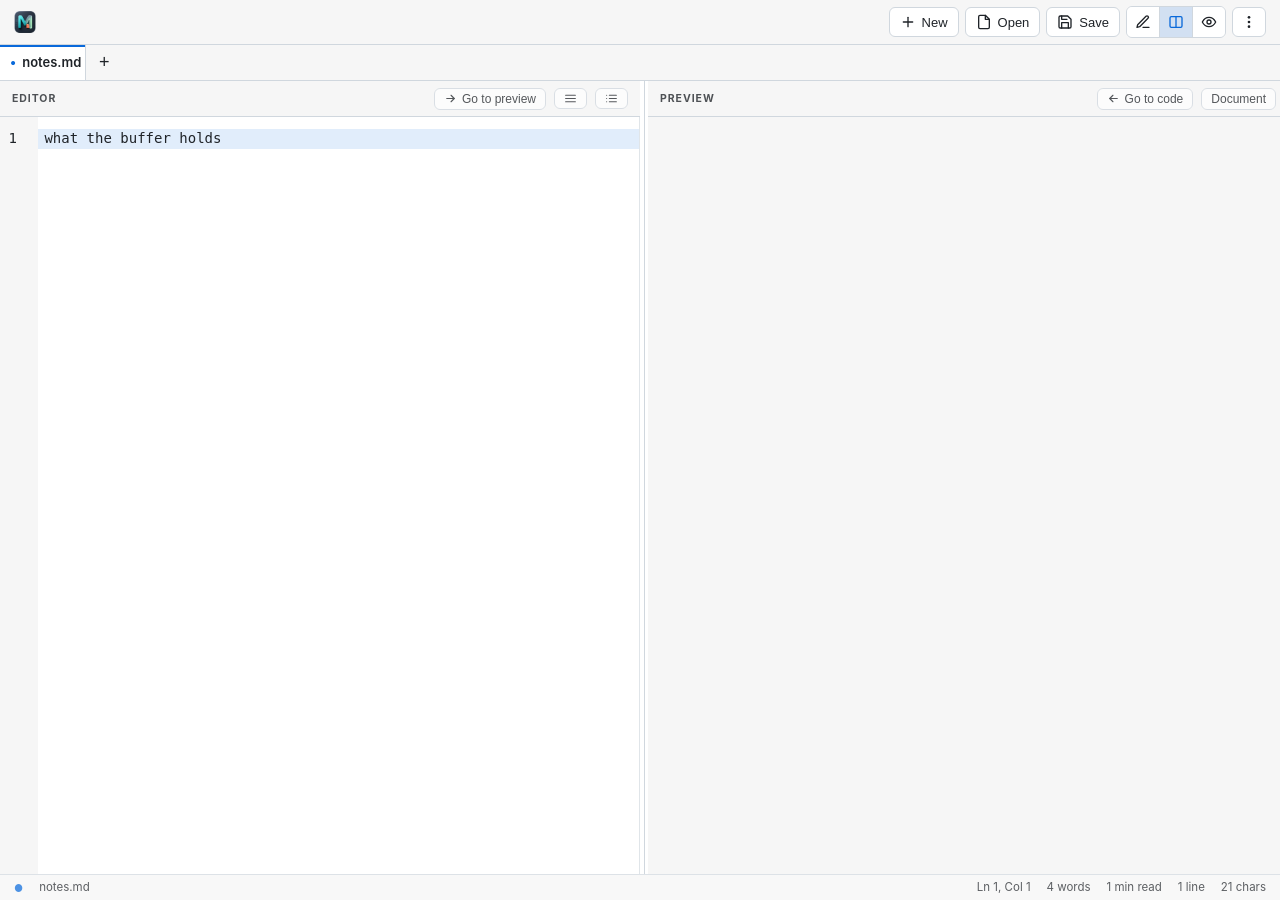
Test: reloading from disk › reloads once the answer is yes
What coordinates should you click on to do the following:
click the button named "more options"
I would click on:
 (1249, 22)
Its box is [1232,7,1266,37].
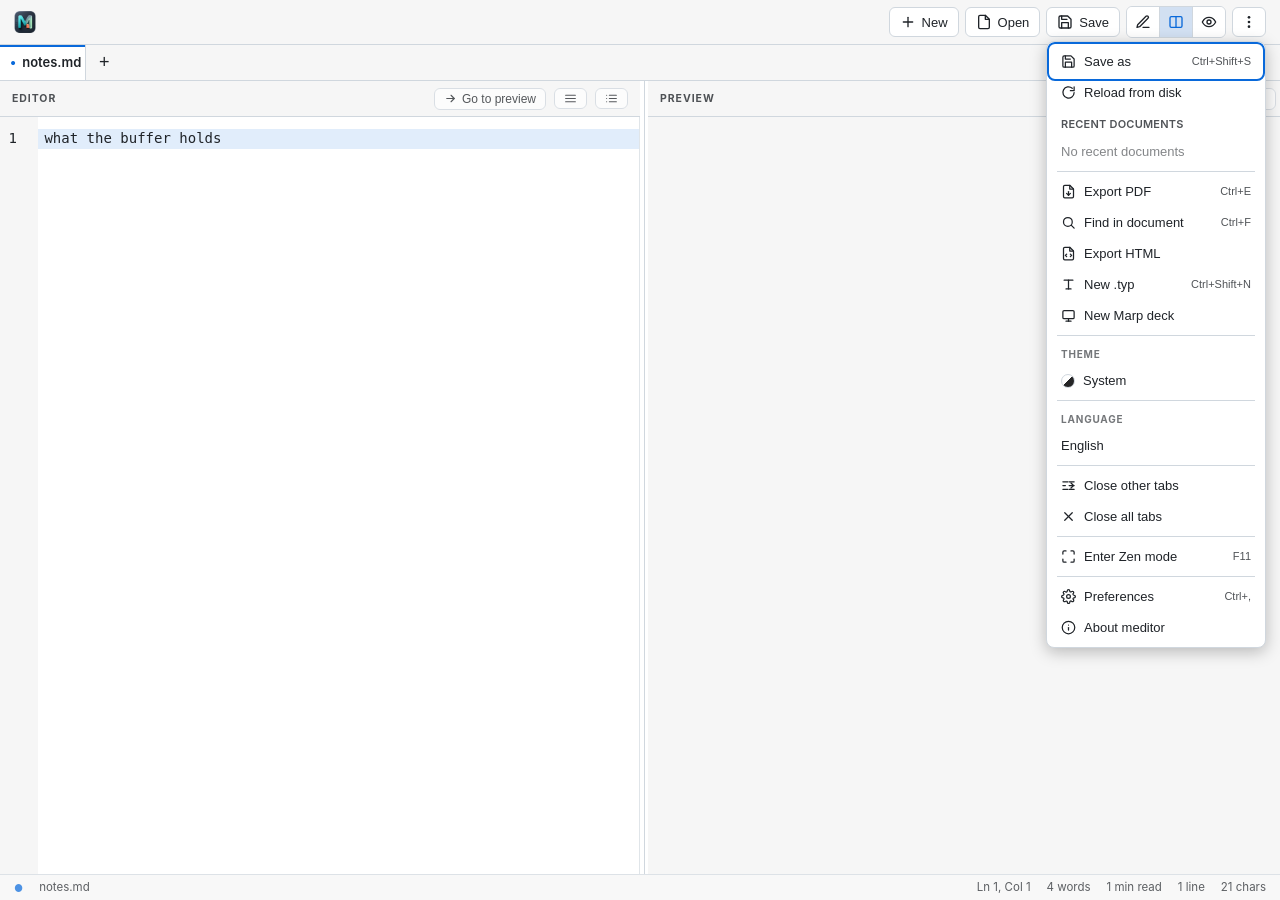
What coordinates should you click on to do the following:
click the menu item "Reload from disk"
I would click on:
 (1156, 92)
Its box is [1051,77,1261,108].
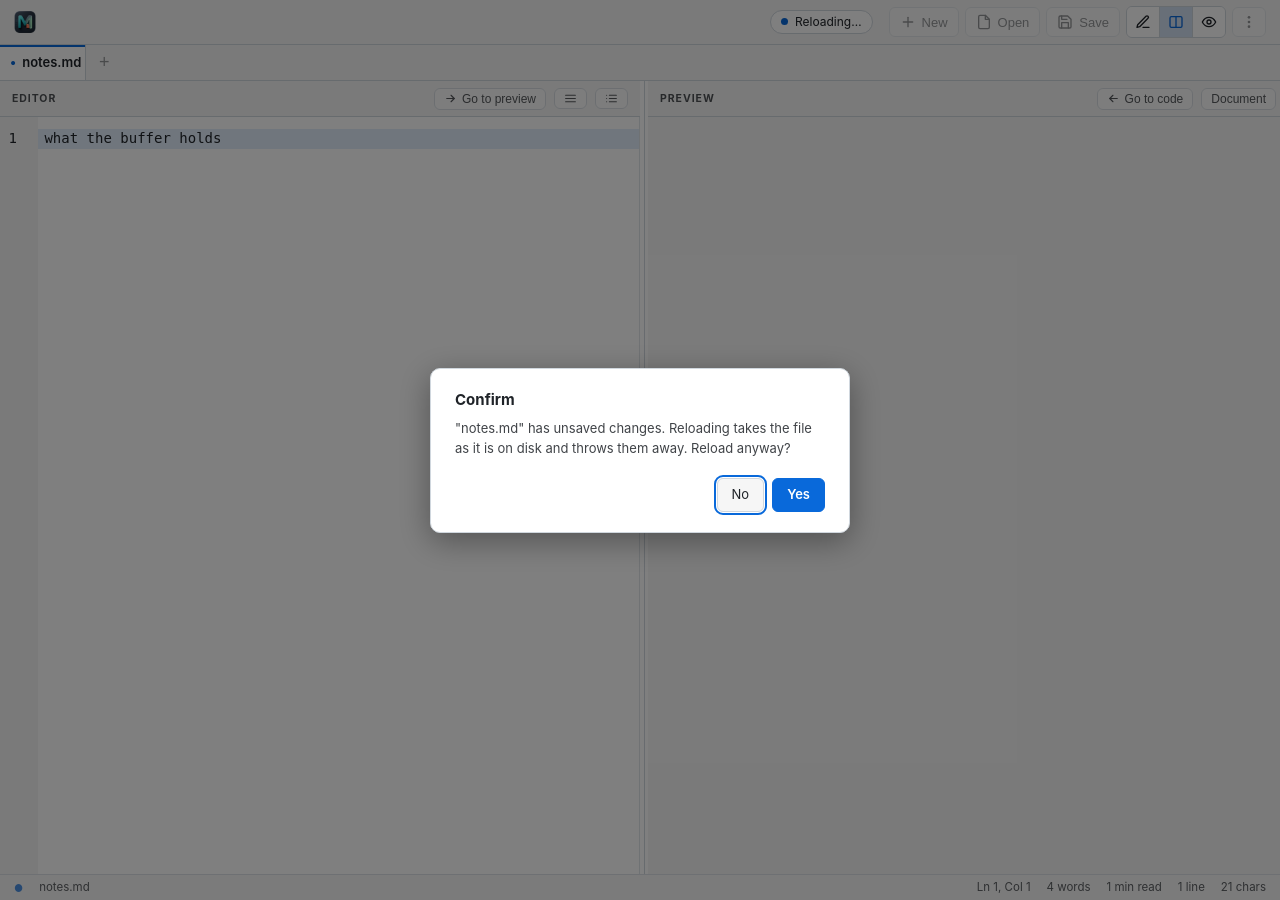
Expected: the text "unsaved changes" is shown, [455,420,812,456]
What coordinates should you click on to do the following:
click the button "Yes"
I would click on:
 (799, 495)
Its box is [772,478,825,512].
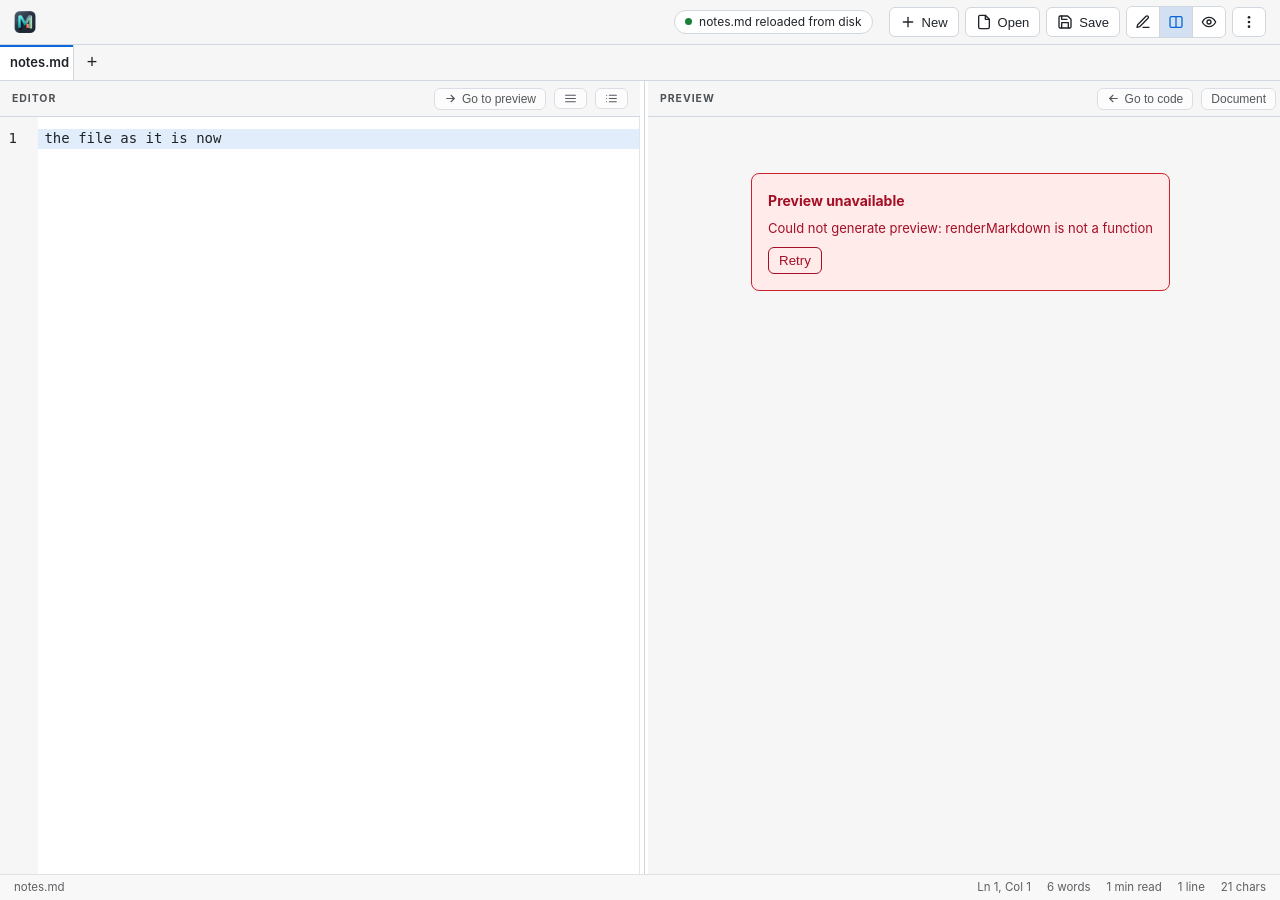
Expected: the text box labelled "the file as it is now" is shown, [38,129,639,149]
Expected: the text with class "tab-dirty" is gone
